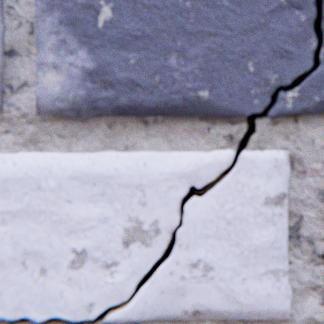brick: (0, 0, 6, 109)
broken_brick: (0, 149, 234, 319), (36, 0, 316, 117), (104, 150, 291, 320), (268, 45, 323, 117)
crack: (0, 0, 323, 323)
